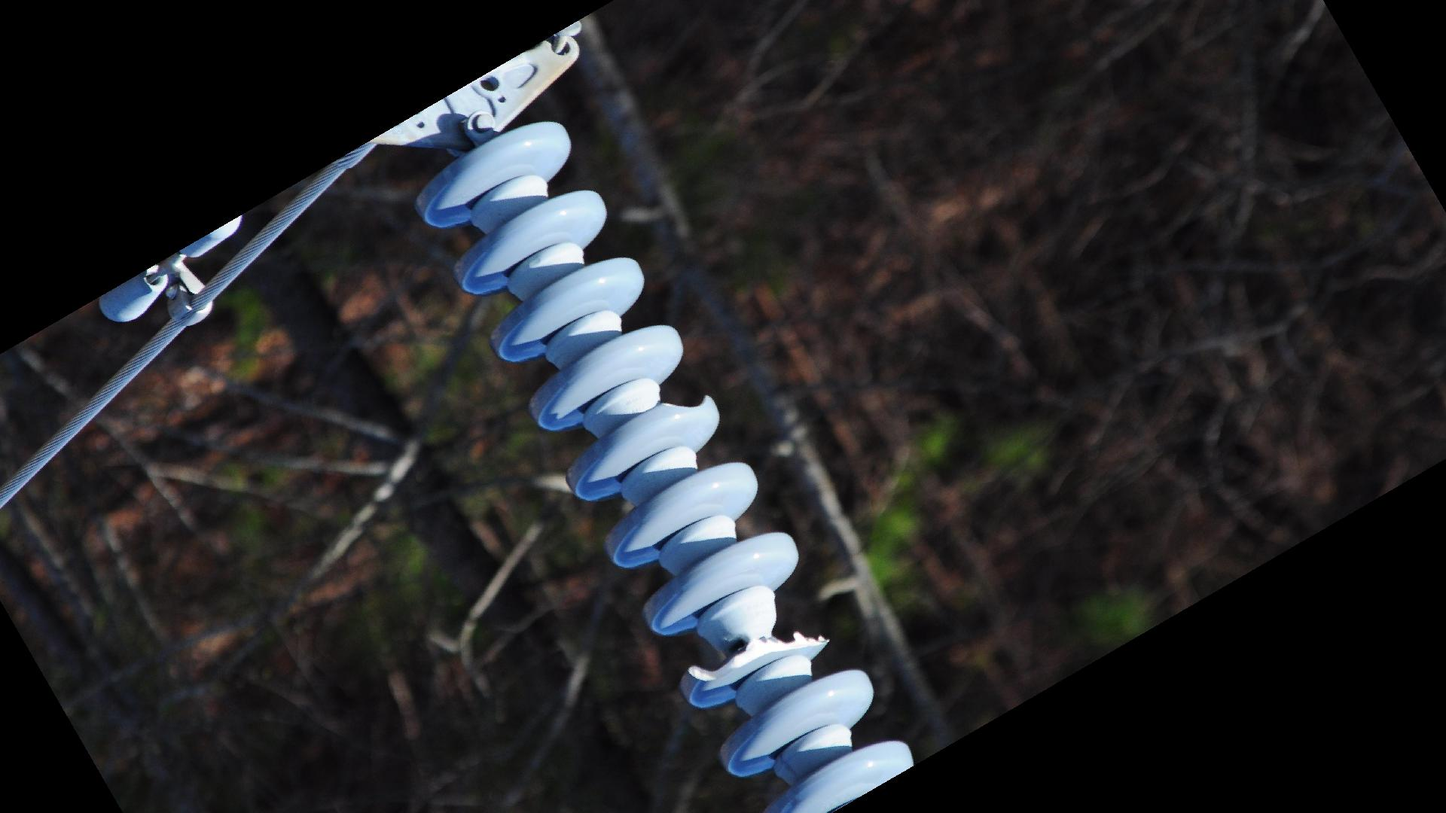insulator: (409, 117, 925, 813)
insulator_breakage: (681, 629, 832, 688), (655, 388, 719, 416)
